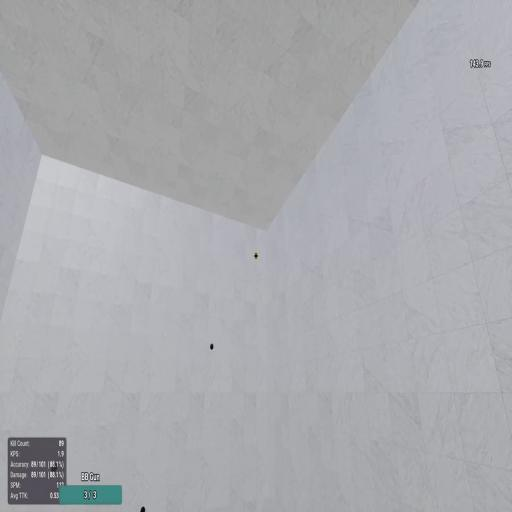Crosshair: (253, 250, 260, 260)
Target: (210, 341, 214, 350), (140, 505, 146, 511)
